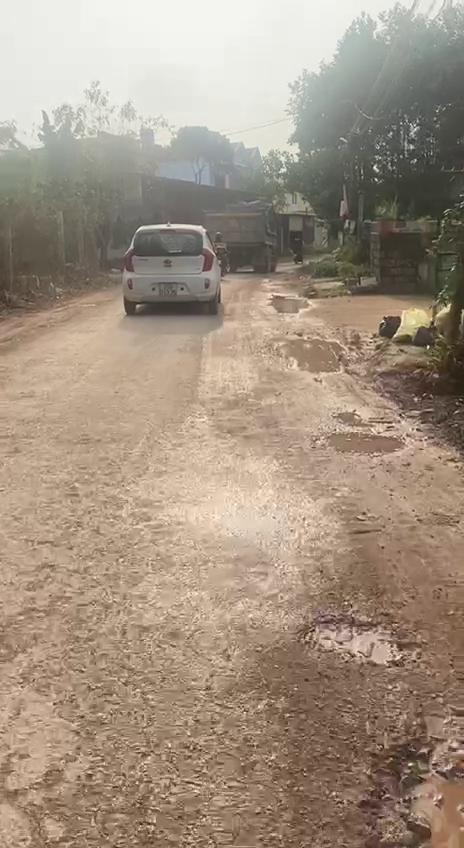pothole: (334, 702, 462, 842), (294, 610, 410, 672), (320, 424, 420, 466), (268, 338, 350, 378), (269, 294, 313, 314)
